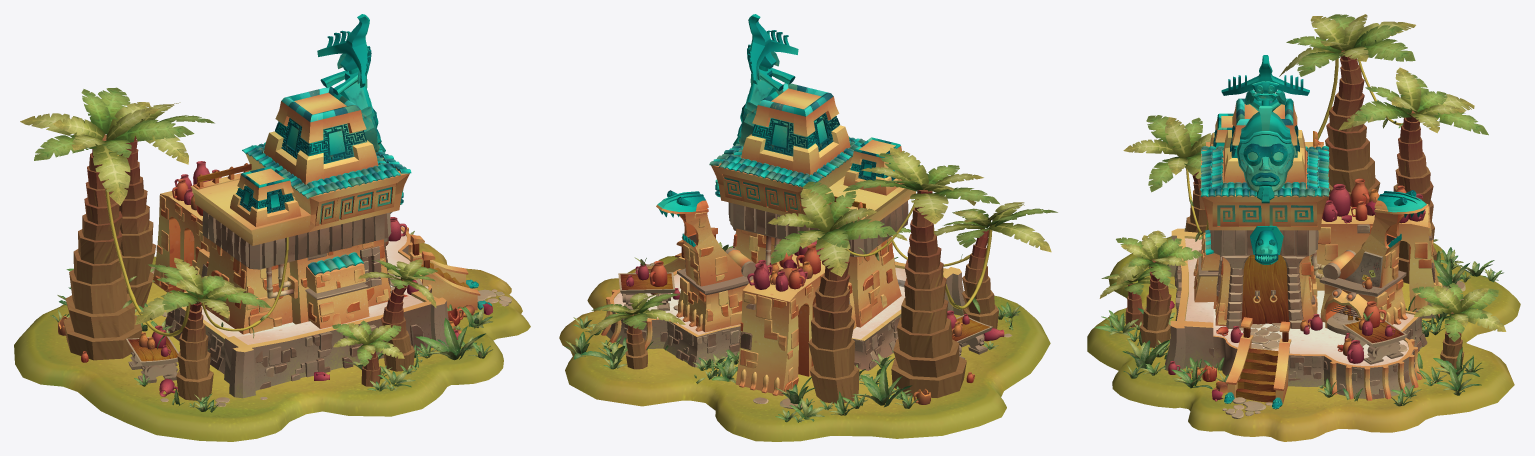
Rendered from Miel's_MayanPottery.fbx.
3 views of the same model, side by side, from view 1: azimuth 30°, elevation 25°; view 2: azimuth 150°, elevation 25°; view 3: azimuth 270°, elevation 25° (orthographic). The views are drawn at different scales.
Visible parts, largest first — view 1: polySurface21, polySurface118, polySurface53, polySurface43, polySurface111, pCube28, polySurface80, polySurface81, polySurface95, polySurface115, pCube30, pCube8 (+14 smaller); view 2: polySurface21, polySurface118, polySurface53, pCube28, polySurface80, polySurface43, polySurface101, polySurface111, polySurface46, pCube8, pCube30, polySurface81 (+12 smaller); view 3: polySurface21, polySurface43, polySurface118, polySurface81, pCube30, polySurface46, polySurface111, pCube8, polySurface53, pCube28, polySurface101, polySurface80 (+21 smaller).
Part boxes in pixels (x1,y1,x2,y2): polySurface21: (14,243,530,441); polySurface118: (63,134,414,400); polySurface53: (190,86,409,245); polySurface43: (165,226,480,398); polySurface111: (20,87,194,205); pCube28: (153,195,424,389); polySurface80: (153,118,366,292); polySurface81: (201,212,391,334); polySurface95: (202,210,390,268); polySurface115: (135,258,271,324); pCube30: (317,14,385,152); pCube8: (58,161,492,396); polySurface21: (559,256,1050,441); polySurface118: (625,189,998,403); polySurface53: (711,83,915,227); pCube28: (610,212,899,391); polySurface80: (735,112,895,395); polySurface43: (601,227,965,370); polySurface101: (768,181,896,276); polySurface111: (843,147,999,224); polySurface46: (675,212,753,332); pCube8: (626,240,1004,404); pCube30: (733,14,798,146); polySurface81: (730,203,901,327); polySurface21: (1087,236,1520,441); polySurface43: (1165,228,1427,403); polySurface118: (1139,50,1464,369); polySurface81: (1213,230,1315,328); pCube30: (1221,55,1309,203); polySurface46: (1319,212,1408,335); polySurface111: (1279,14,1415,76); pCube8: (1168,178,1425,401); polySurface53: (1201,98,1328,230); pCube28: (1175,206,1437,399); polySurface101: (1338,67,1488,135); polySurface80: (1213,125,1439,318).
Bounding box in the file's own units: 1003 × 668 × 844.
3 materials, 2 textured.
